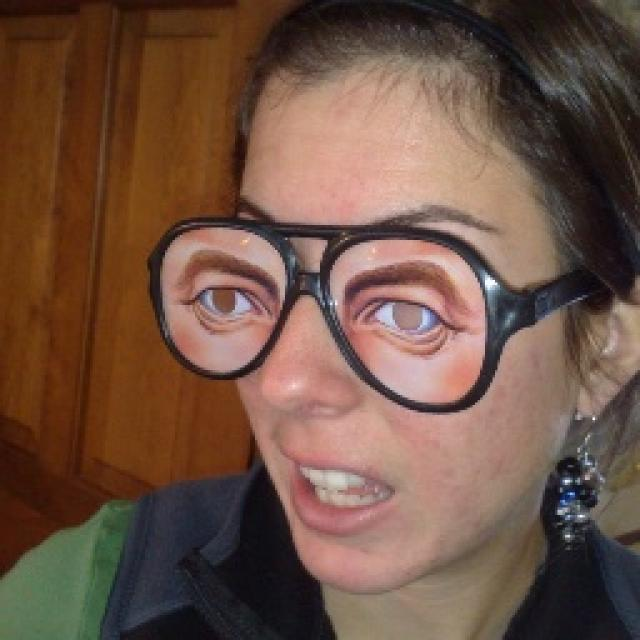glasses: (139, 193, 609, 406)
